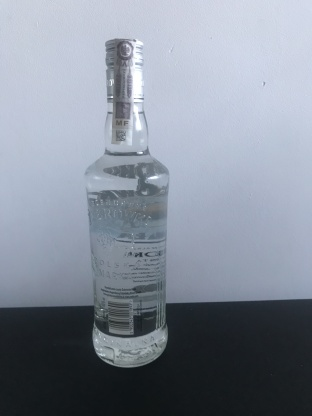nakretka: (101, 34, 147, 105)
